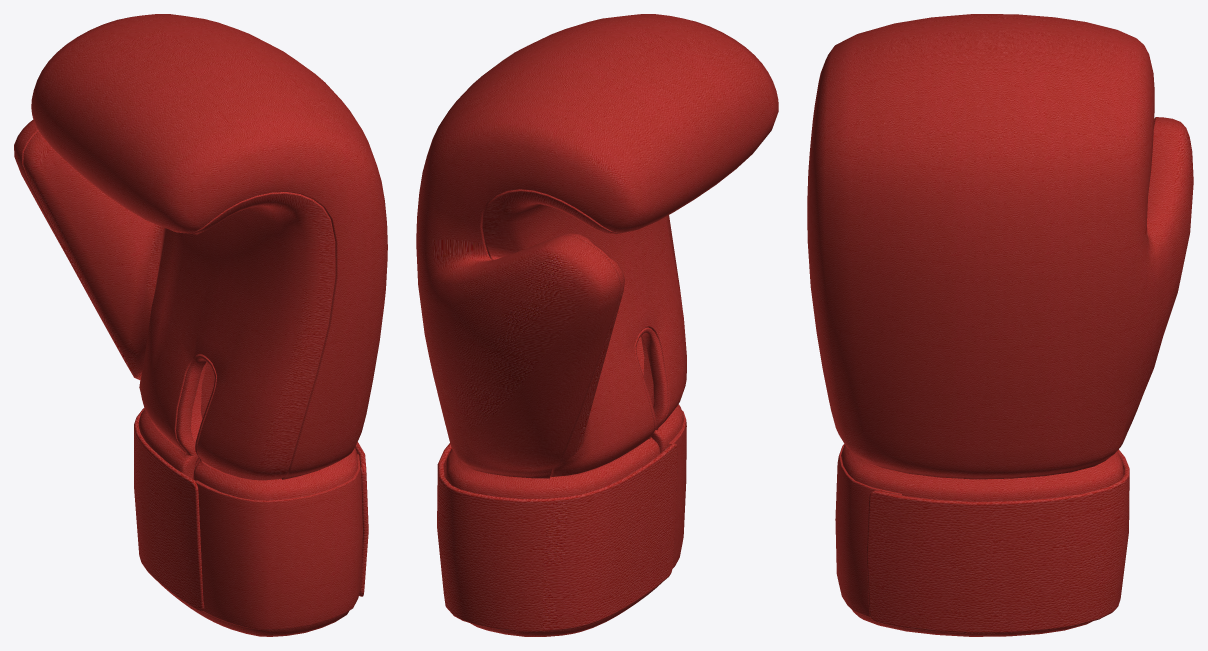
Rendered from rękawice bokserskie101.fbx.
3 views of the same model, side by side, from view 1: azimuth 30°, elevation 25°; view 2: azimuth 150°, elevation 25°; view 3: azimuth 270°, elevation 25° (orthographic). The views are drawn at different scales.
Visible parts, largest first — view 1: rękawice bokserskie101; view 2: rękawice bokserskie101; view 3: rękawice bokserskie101.
Part boxes in pixels (<box>): rękawice bokserskie101: <box>14,14,387,636</box>; rękawice bokserskie101: <box>416,14,778,636</box>; rękawice bokserskie101: <box>807,14,1193,636</box>.
Size of the model in its own units: 5.3 by 10.6 by 6.77.
